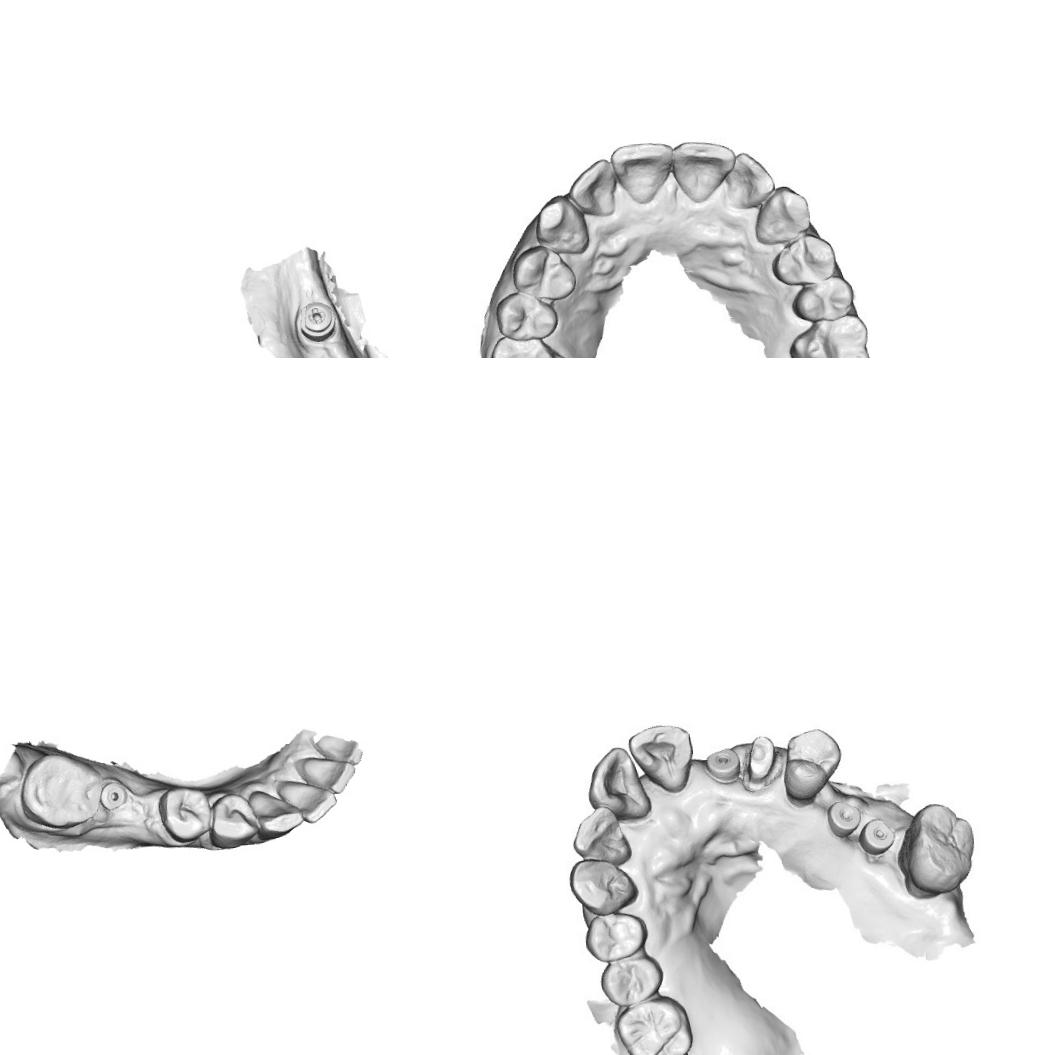canine: (562, 852, 640, 918), (750, 182, 814, 247), (530, 191, 592, 258), (246, 785, 306, 839)
crown: (742, 728, 779, 789)
implant: (824, 798, 865, 839), (702, 744, 742, 784), (859, 816, 894, 854), (97, 778, 130, 812)
implant_plus: (296, 297, 337, 345)
incisor: (626, 722, 697, 803), (584, 742, 650, 820), (668, 136, 740, 204), (609, 138, 676, 206), (567, 809, 633, 866), (563, 156, 620, 220), (720, 148, 777, 211), (274, 774, 339, 825), (300, 753, 356, 797), (315, 733, 364, 768)
molar: (894, 796, 986, 901), (14, 748, 104, 831), (613, 993, 695, 1055), (785, 313, 873, 358)
premolar: (778, 724, 846, 805), (507, 241, 578, 304), (767, 230, 840, 288), (590, 952, 666, 1006), (492, 288, 560, 344), (581, 908, 650, 963), (156, 783, 214, 845), (788, 273, 857, 325), (206, 788, 260, 851)
